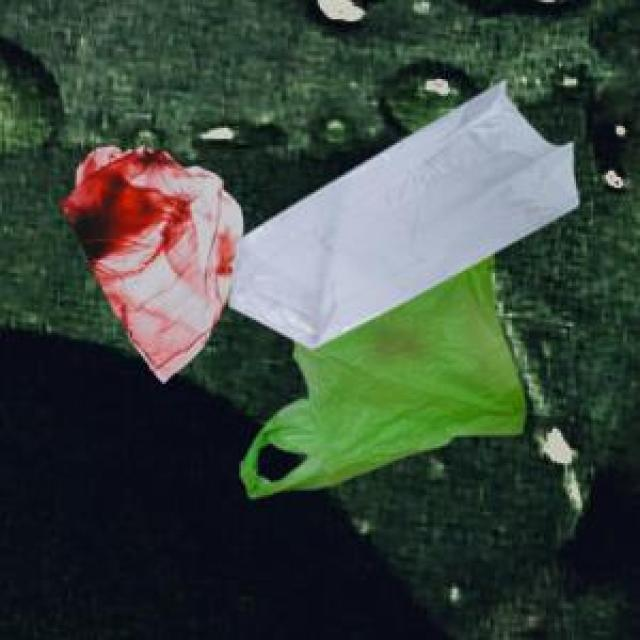Single-layer Plastic: (230, 82, 579, 348), (241, 260, 524, 498), (61, 146, 242, 382)
